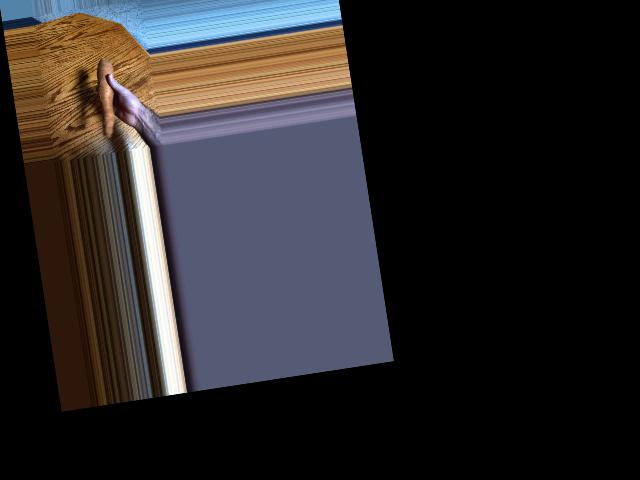sweet_potato: (91, 59, 121, 141)
